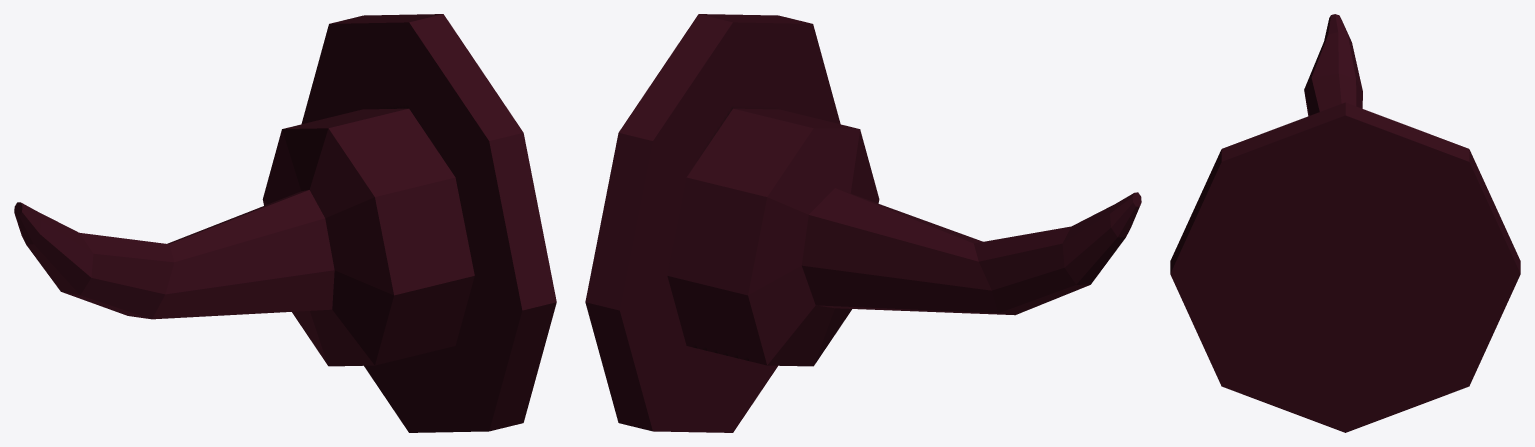
The model's file is HookForLantern.glb.
The picture shows the model from 3 angles, left to right: view 1: azimuth 30°, elevation 25°; view 2: azimuth 150°, elevation 25°; view 3: azimuth 270°, elevation 25°; orthographic projection. The views are drawn at different scales.
Parts seen in each view (by area): view 1: aLantern; view 2: aLantern; view 3: aLantern.
Boxes of the visible parts, x1,y1,x2,y2 form: aLantern: [14, 14, 556, 432]; aLantern: [585, 14, 1141, 432]; aLantern: [1170, 14, 1520, 432].
Size of what is drawn, in the model's own units: 0.2171 by 0.1962 by 0.1962.
Materials: 1 (1 with a texture image).
